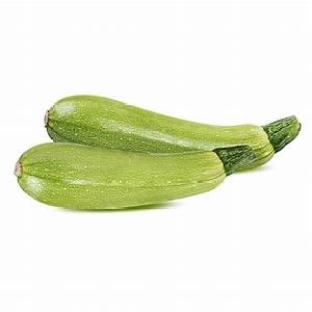Zucchini: (45, 96, 300, 168), (15, 143, 255, 209)
